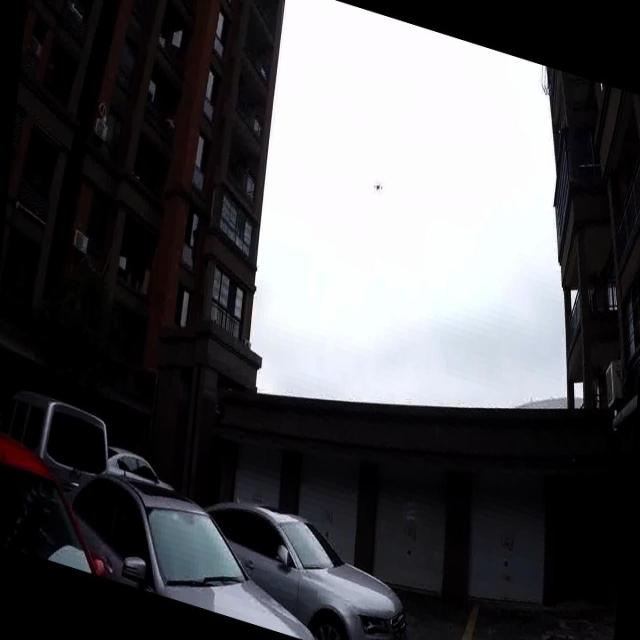drone: (372, 177, 384, 202)
